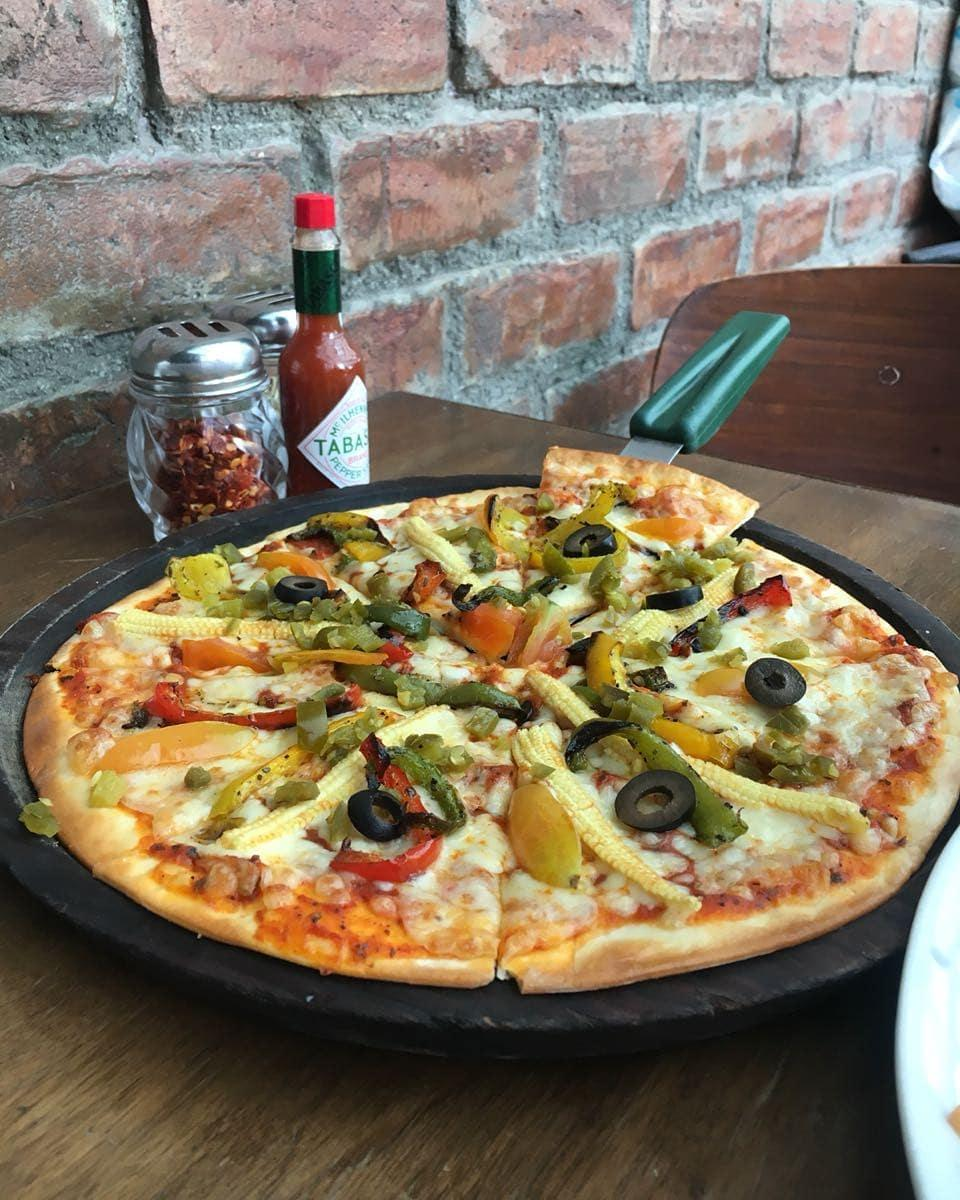Olives: (609, 765, 701, 838), (736, 650, 816, 714), (337, 785, 405, 838), (561, 519, 625, 563), (640, 577, 709, 614), (265, 572, 338, 601), (442, 577, 503, 609)
Peppers: (563, 714, 748, 846), (581, 629, 739, 766), (210, 707, 404, 818), (329, 730, 444, 874), (514, 481, 630, 578), (674, 573, 797, 657), (438, 595, 575, 665), (504, 782, 587, 892), (147, 681, 363, 723), (286, 505, 410, 569), (258, 592, 433, 636), (396, 734, 470, 832), (154, 632, 293, 680), (745, 721, 837, 786), (286, 621, 406, 670), (248, 550, 342, 595), (647, 540, 753, 578), (484, 502, 540, 566), (269, 700, 335, 752), (167, 551, 233, 601), (583, 555, 627, 615), (627, 513, 705, 546), (690, 606, 728, 659), (259, 538, 349, 560), (404, 563, 442, 610), (627, 634, 672, 659), (211, 534, 234, 562)
Pizza: (19, 445, 960, 995)
